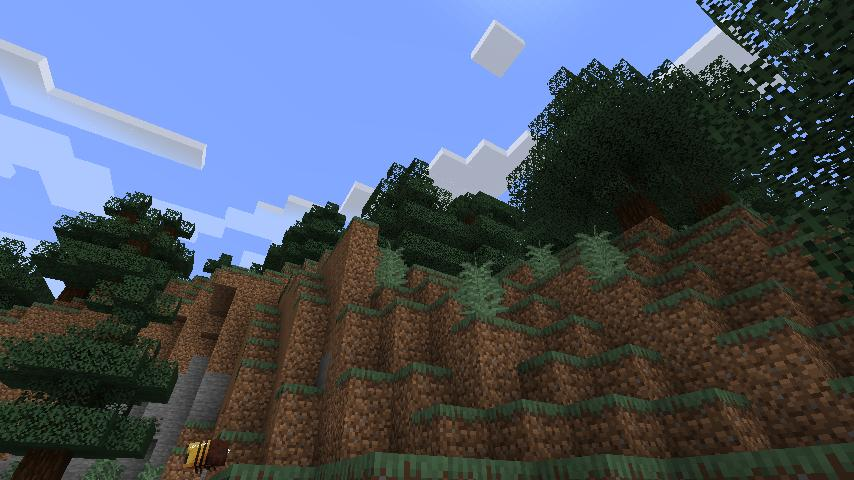bee: (182, 438, 233, 473)
